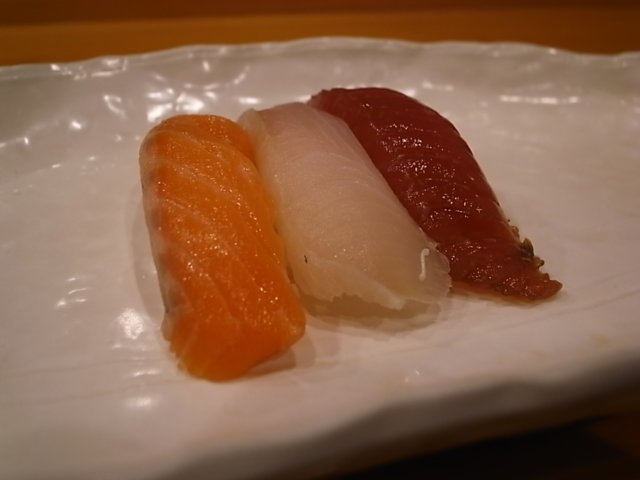salmon: (145, 108, 306, 375)
